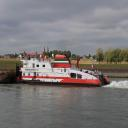tugboat: (10, 49, 112, 90)
